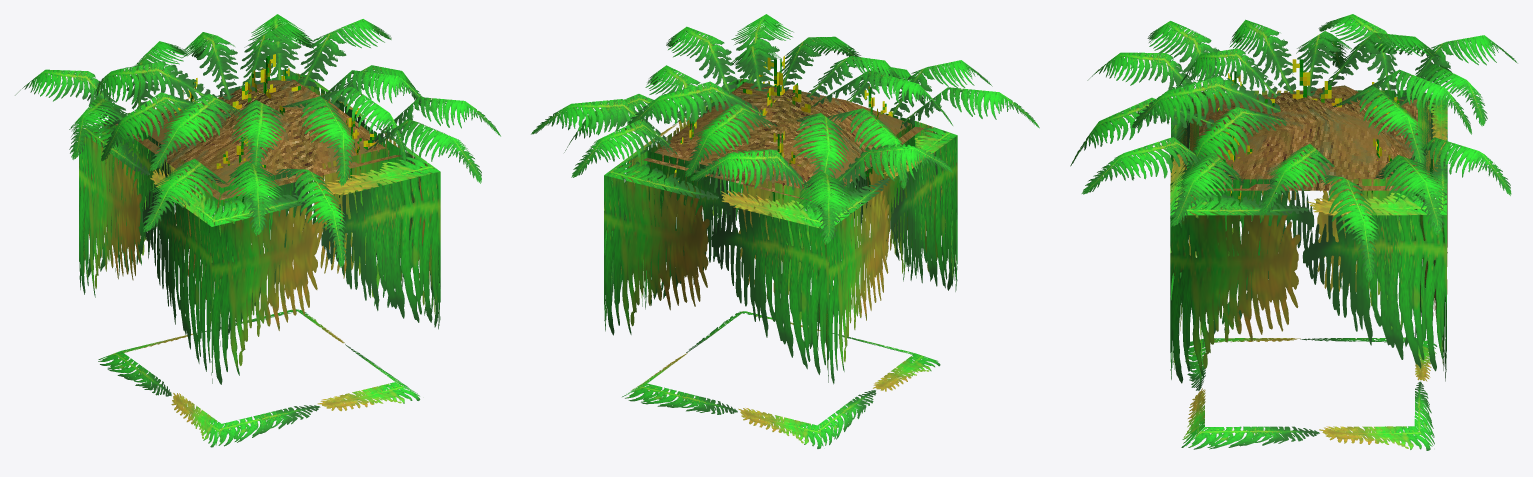
The model's file is butterflygarden.obj.
3 renders of one model, left to right at view 1: azimuth 30°, elevation 25°; view 2: azimuth 150°, elevation 25°; view 3: azimuth 270°, elevation 25°, orthographic. The views are drawn at different scales.
Parts seen in each view (by area): view 1: Duplicate03, Box03, Duplicate08, Duplicate11, Duplicate02, Duplicate09, Duplicate10, Duplicate01, Duplicate06, Duplicate04, Duplicate00, Triangles (+2 smaller); view 2: Duplicate03, Box03, Duplicate10, Duplicate08, Duplicate01, Duplicate02, Duplicate09, Duplicate11, Triangles, Duplicate00, Duplicate04, Duplicate05 (+2 smaller); view 3: Duplicate03, Box03, Duplicate09, Duplicate11, Duplicate08, Duplicate10, Duplicate02, Duplicate01, Duplicate07, Duplicate00, Duplicate05, Duplicate06 (+2 smaller).
Boxes of the visible parts, x1,y1,x2,y2 form: Duplicate03: [79, 14, 440, 447]; Box03: [115, 79, 400, 200]; Duplicate08: [87, 54, 300, 161]; Duplicate11: [150, 94, 376, 196]; Duplicate02: [143, 158, 282, 235]; Duplicate09: [174, 78, 406, 186]; Duplicate10: [180, 23, 314, 99]; Duplicate01: [126, 41, 481, 183]; Duplicate06: [276, 168, 346, 267]; Duplicate04: [15, 69, 123, 120]; Duplicate00: [372, 97, 500, 142]; Triangles: [69, 96, 138, 159]; Duplicate03: [531, 78, 957, 448]; Box03: [643, 82, 923, 202]; Duplicate10: [625, 81, 781, 185]; Duplicate08: [743, 56, 908, 202]; Duplicate01: [690, 14, 812, 192]; Duplicate02: [890, 60, 1039, 128]; Duplicate09: [730, 36, 864, 201]; Duplicate11: [742, 56, 952, 125]; Triangles: [831, 143, 952, 195]; Duplicate00: [666, 26, 737, 93]; Duplicate04: [798, 171, 855, 244]; Duplicate05: [645, 65, 707, 124]; Duplicate03: [1170, 90, 1511, 450]; Box03: [1199, 85, 1417, 190]; Duplicate09: [1132, 75, 1406, 187]; Duplicate11: [1179, 19, 1296, 223]; Duplicate08: [1264, 31, 1451, 190]; Duplicate10: [1332, 69, 1471, 209]; Duplicate02: [1087, 21, 1224, 108]; Duplicate01: [1081, 63, 1487, 194]; Duplicate07: [1317, 175, 1378, 281]; Duplicate00: [1170, 153, 1244, 226]; Duplicate05: [1259, 144, 1334, 215]; Duplicate06: [1070, 97, 1213, 166].
Size of the model in its own units: 52.25 by 43.68 by 50.59.
